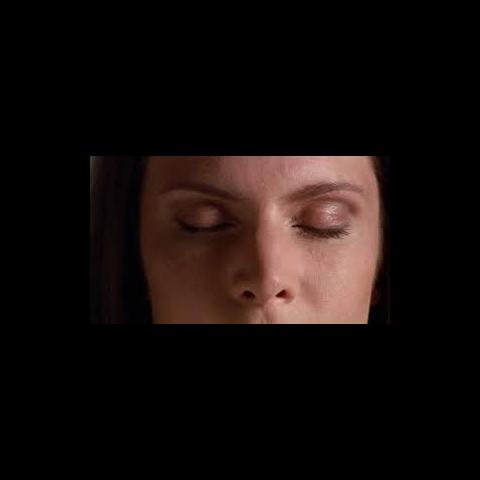closed: (152, 172, 374, 253)
